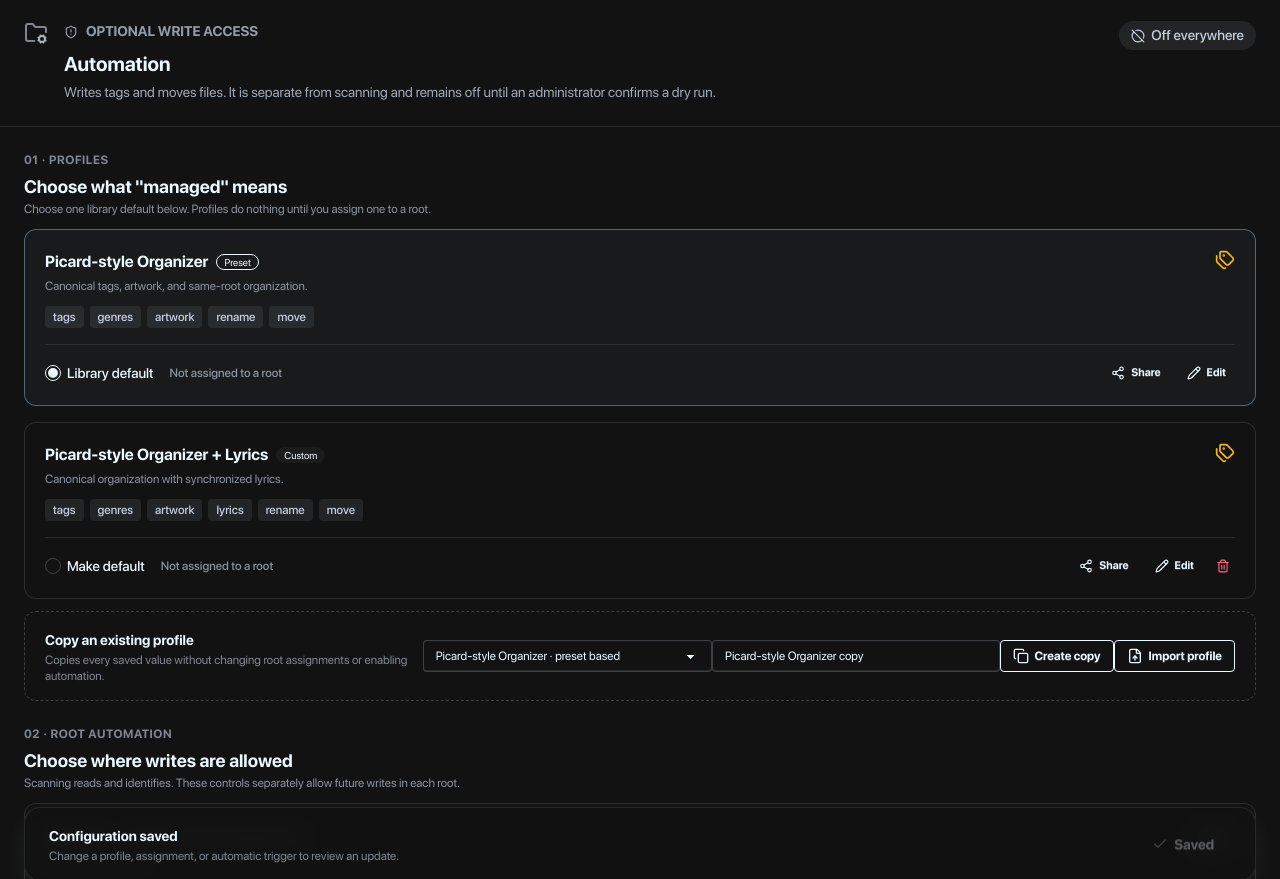
it: SettingsLibraryManagement › sets the library default from the profile cards and updates inherited roots
What coordinates should you click on to do the following:
click the radio button labelled "Make default"
I would click on:
 (53, 566)
Its box is [45,558,61,574].
(page scrolled)
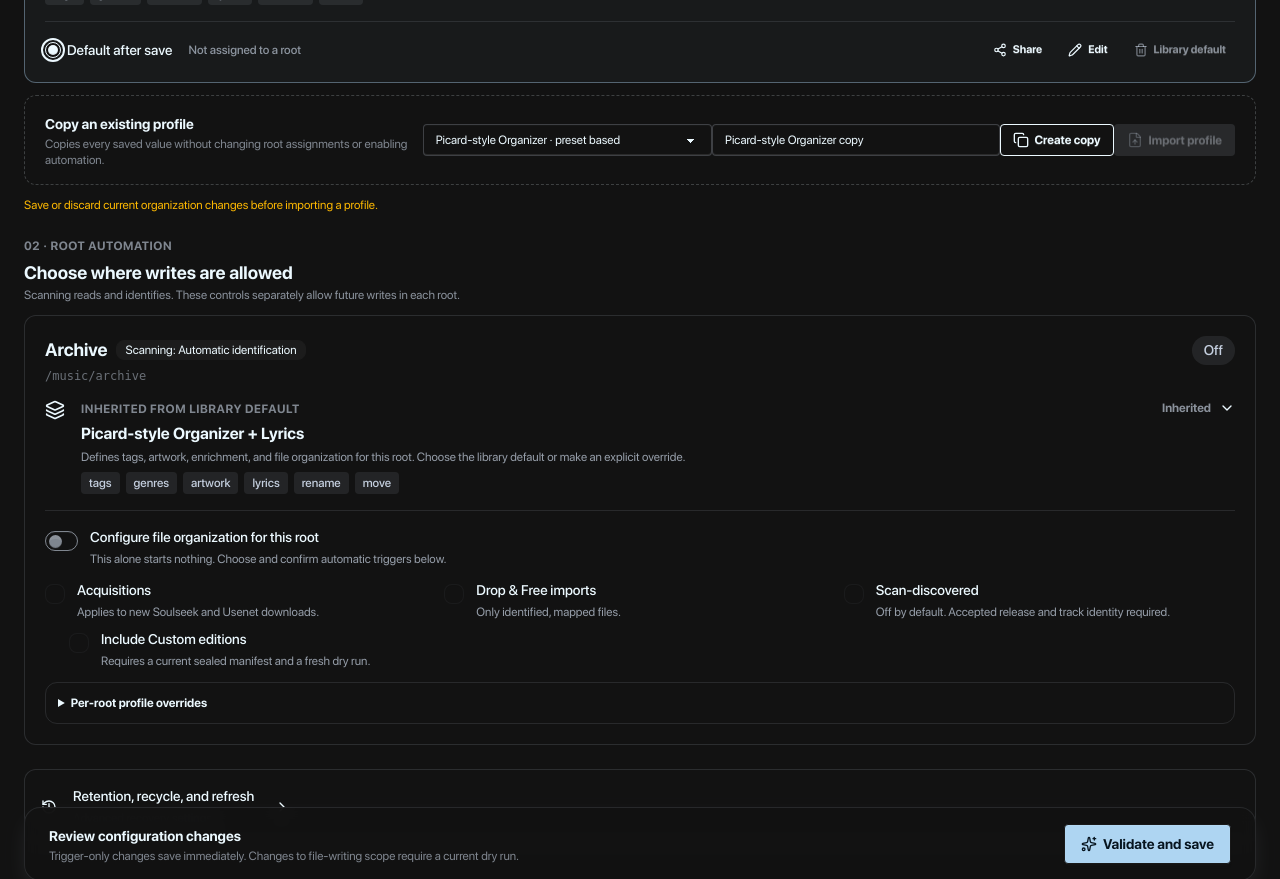
Check: the button "Validate and save" is shown, box [1064,824,1231,864]
Check: the button with aria-label "Choose Management profile for Archive" shows "Picard-style Organizer + Lyrics"
What coordinates should you click on to do the following:
click the button with aria-label "Choose Management profile for Archive"
I would click on:
 (640, 447)
Its box is [45,400,1235,494].
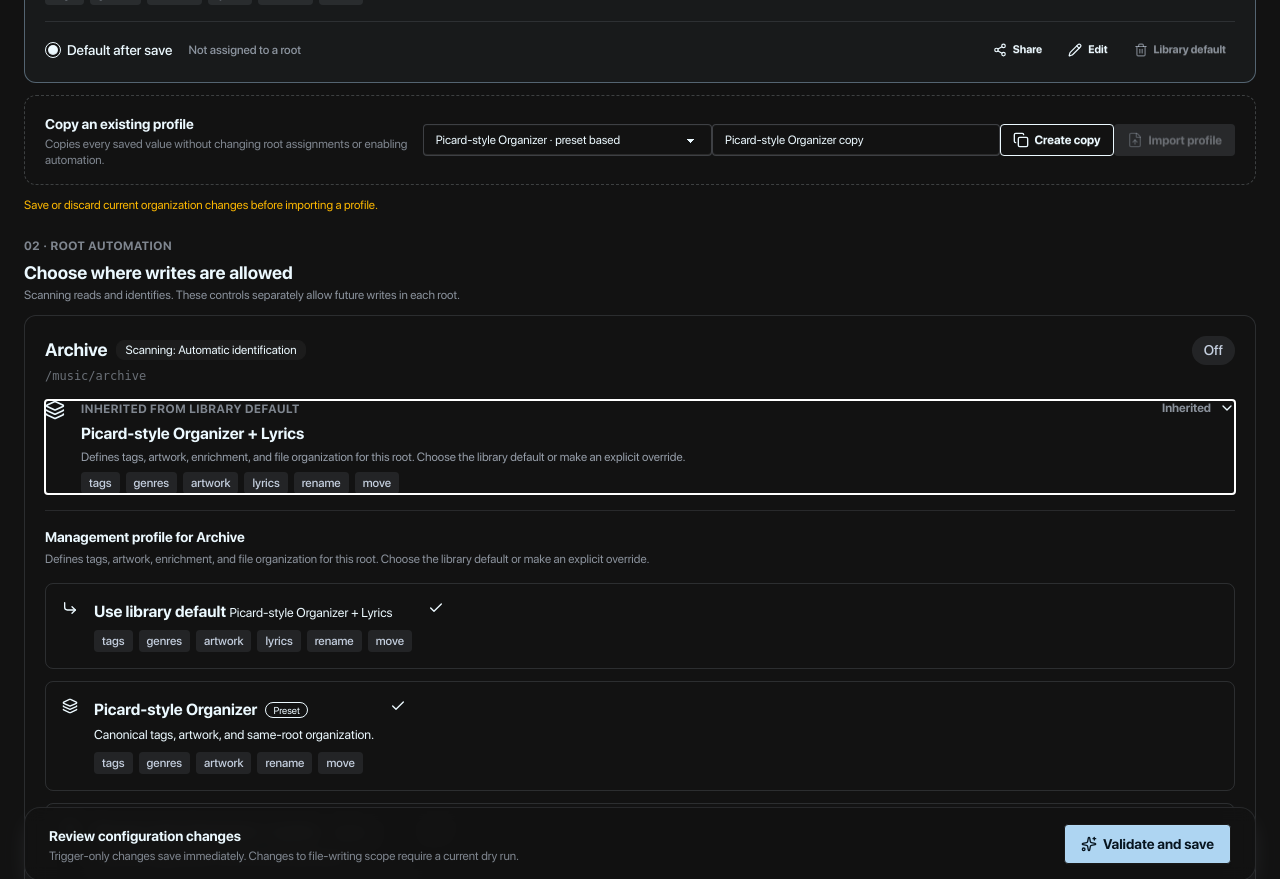
What coordinates should you click on to do the following:
click the radio button with aria-label "Use Picard-style Organizer"
I would click on:
 (176, 710)
Its box is [45,681,1235,791].
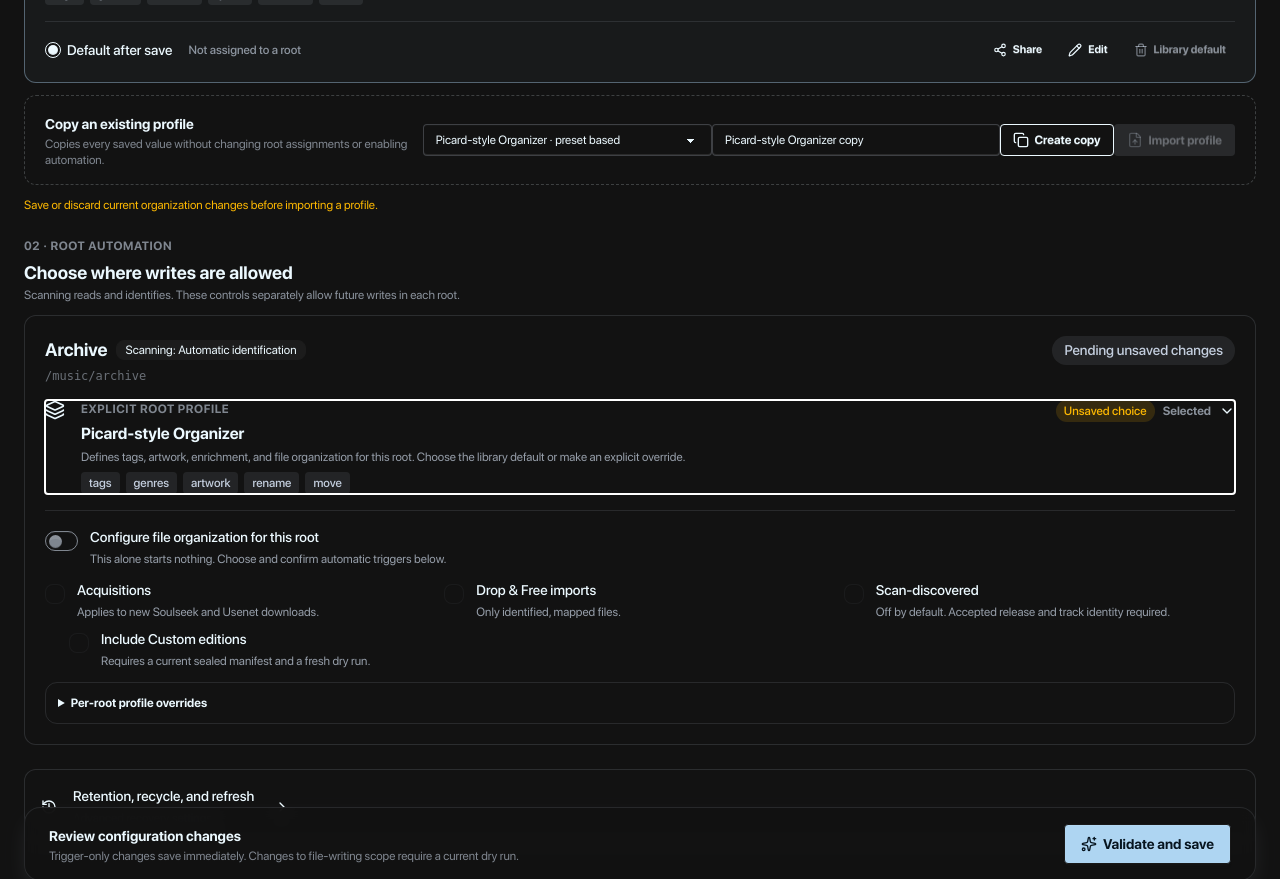
Check: the button with aria-label "Choose Management profile for Archive" shows "Explicit root profile", box [45,400,1235,494]
Check: the button with aria-label "Choose Management profile for Archive" shows "Unsaved choice", box [45,400,1235,494]
